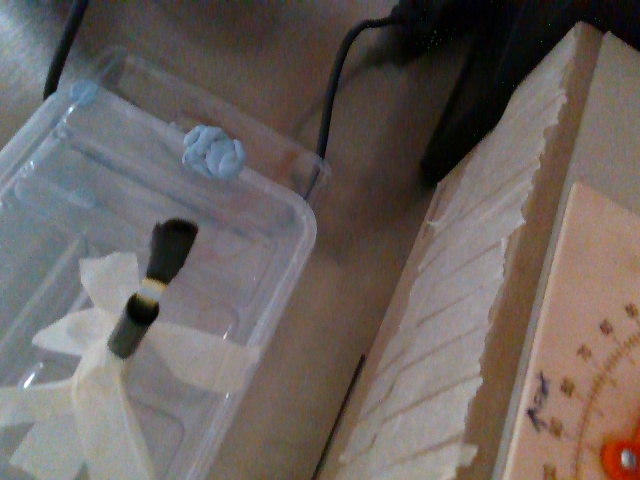test_strip: (136, 217, 196, 302)
